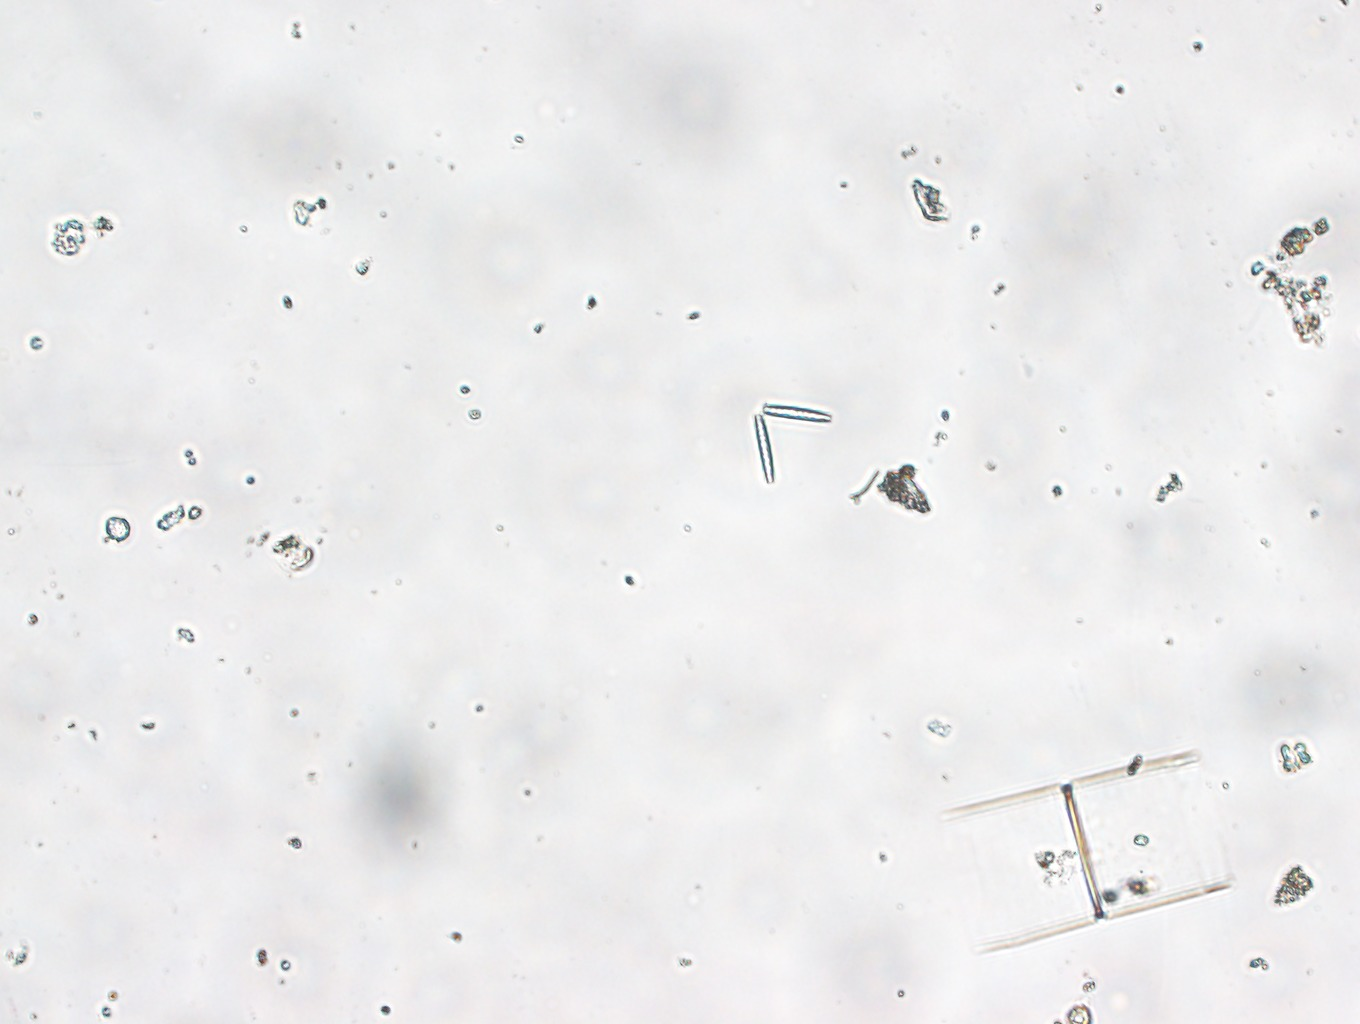guinardia flaccida: (943, 743, 1244, 955)
thalassionema nitzschioides: (738, 393, 836, 490)
